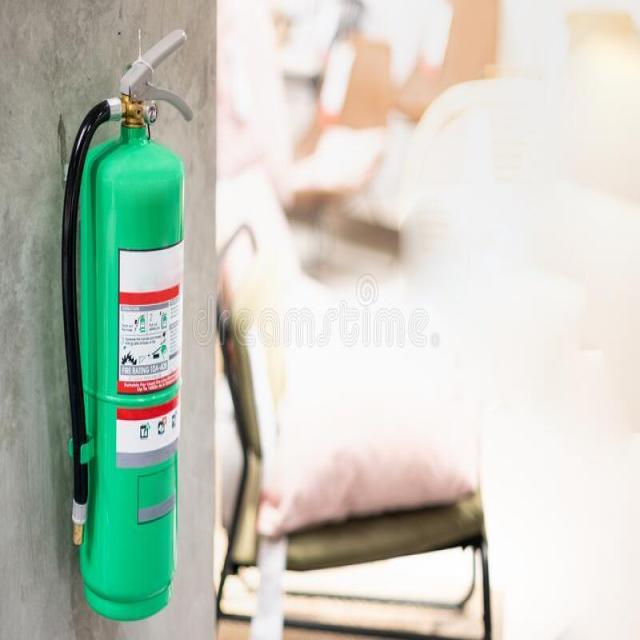fire_extinguisher: (56, 23, 205, 628)
